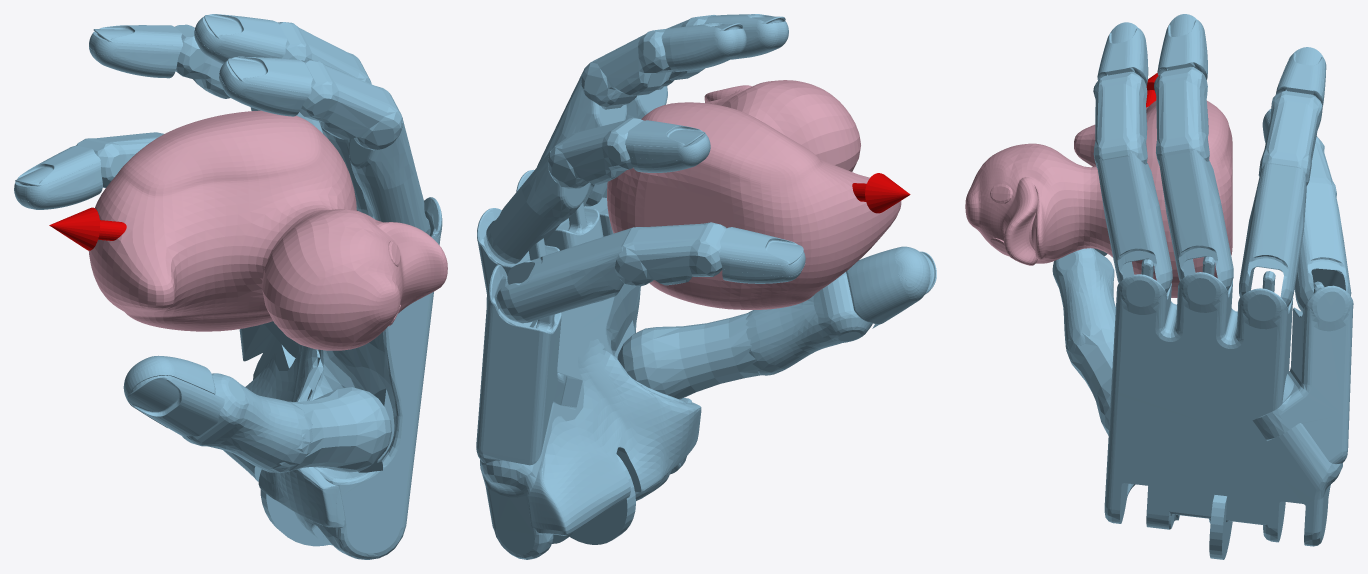
The picture shows the model from 3 angles, left to right: view 1: azimuth 30°, elevation 25°; view 2: azimuth 150°, elevation 25°; view 3: azimuth 270°, elevation 25°; orthographic projection. The views are drawn at different scales.
Parts seen in each view (by area): view 1: world, rubber_duck.stl; view 2: world, rubber_duck.stl; view 3: world, rubber_duck.stl.
Boxes of the visible parts, x1,y1,x2,y2 form: world: (14, 14, 442, 559); rubber_duck.stl: (88, 110, 447, 350); world: (476, 14, 936, 559); rubber_duck.stl: (607, 80, 901, 309); world: (1052, 14, 1353, 559); rubber_duck.stl: (965, 100, 1232, 297).
Size of the model in its own units: 0.1377 by 0.1914 by 0.1393.
